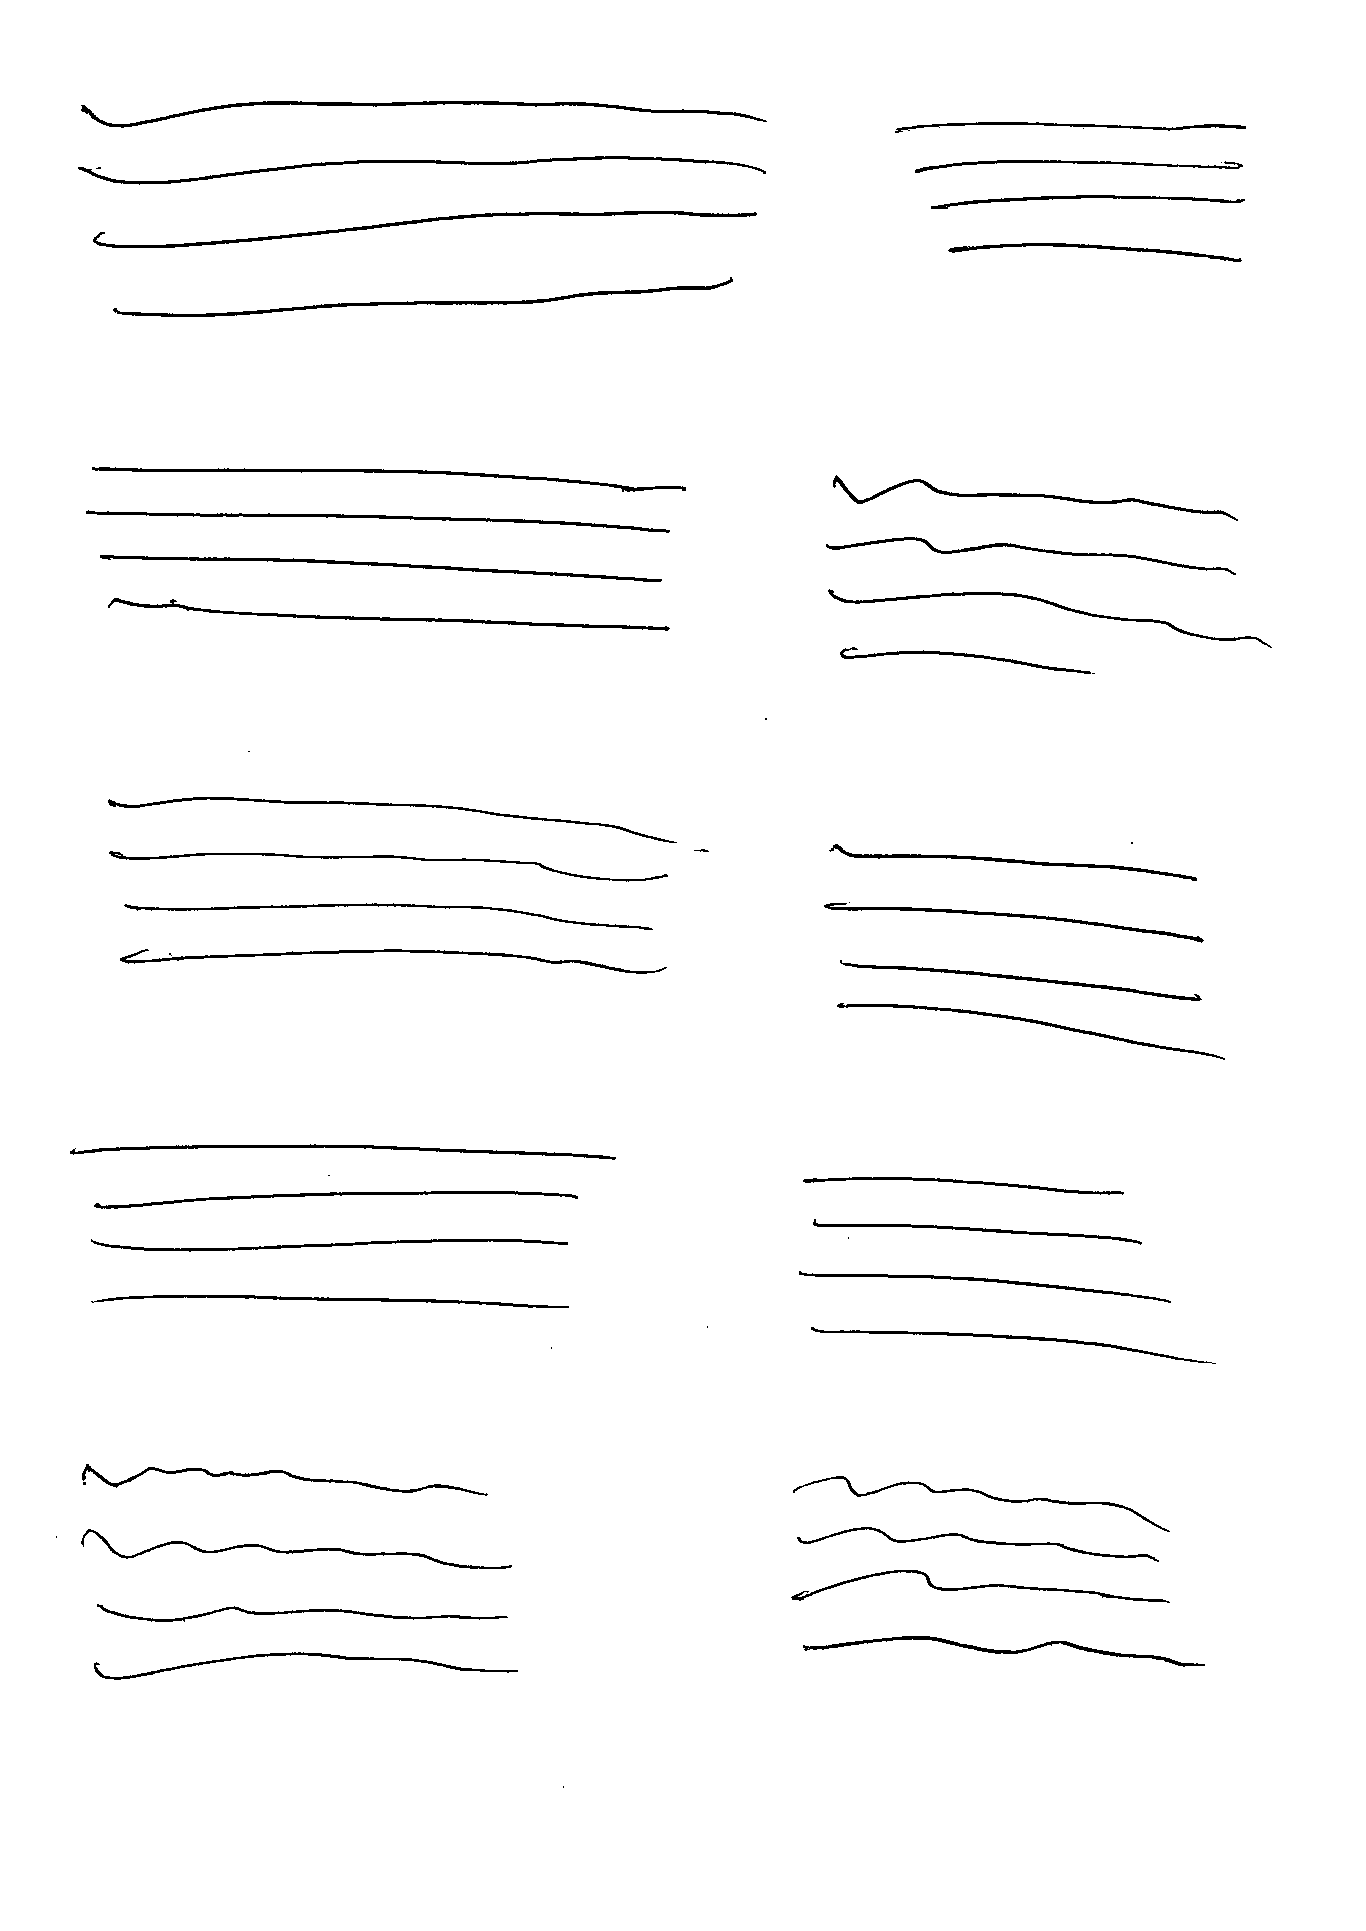Paragraph: (78, 95, 776, 324), (98, 788, 687, 985), (81, 458, 687, 643), (813, 467, 1282, 688), (72, 1458, 531, 1683), (61, 1137, 614, 1311), (822, 840, 1229, 1065), (779, 1467, 1209, 1666), (791, 1175, 1203, 1371), (894, 112, 1258, 271)
